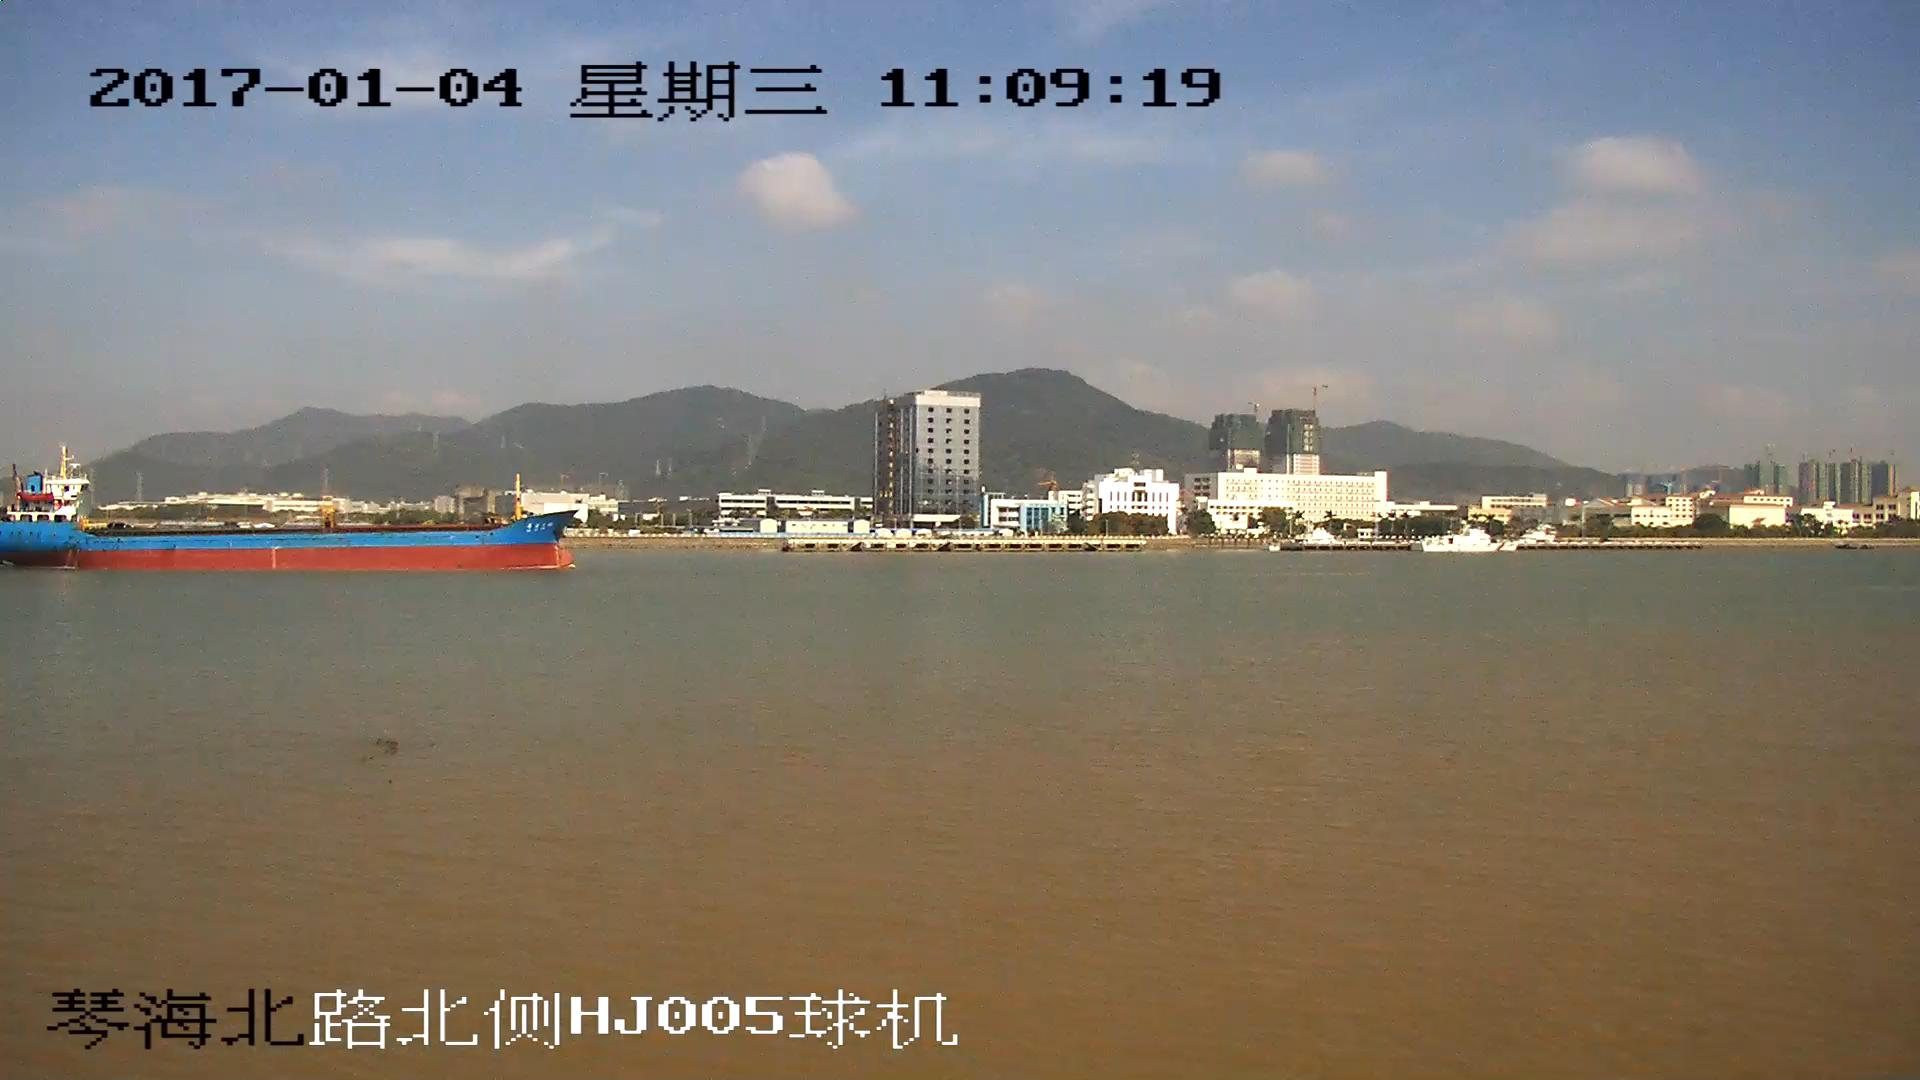general cargo ship: (1, 445, 572, 572)
